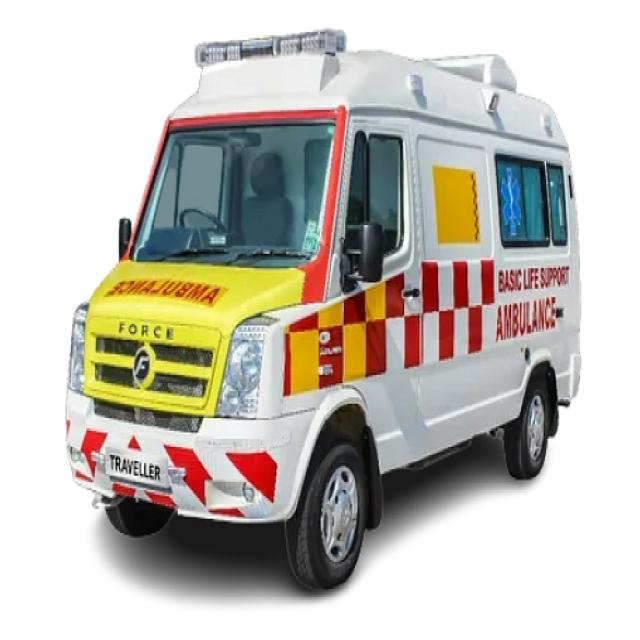emergency: (65, 31, 579, 588)
